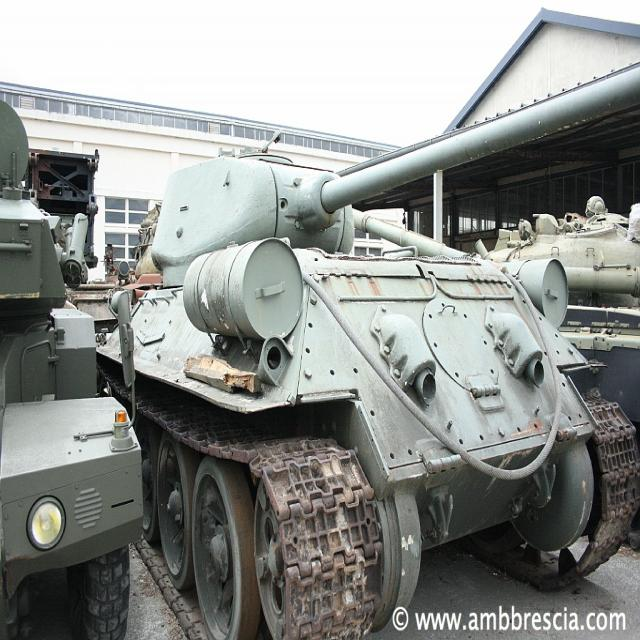tank: (92, 65, 639, 637), (354, 209, 638, 553)
